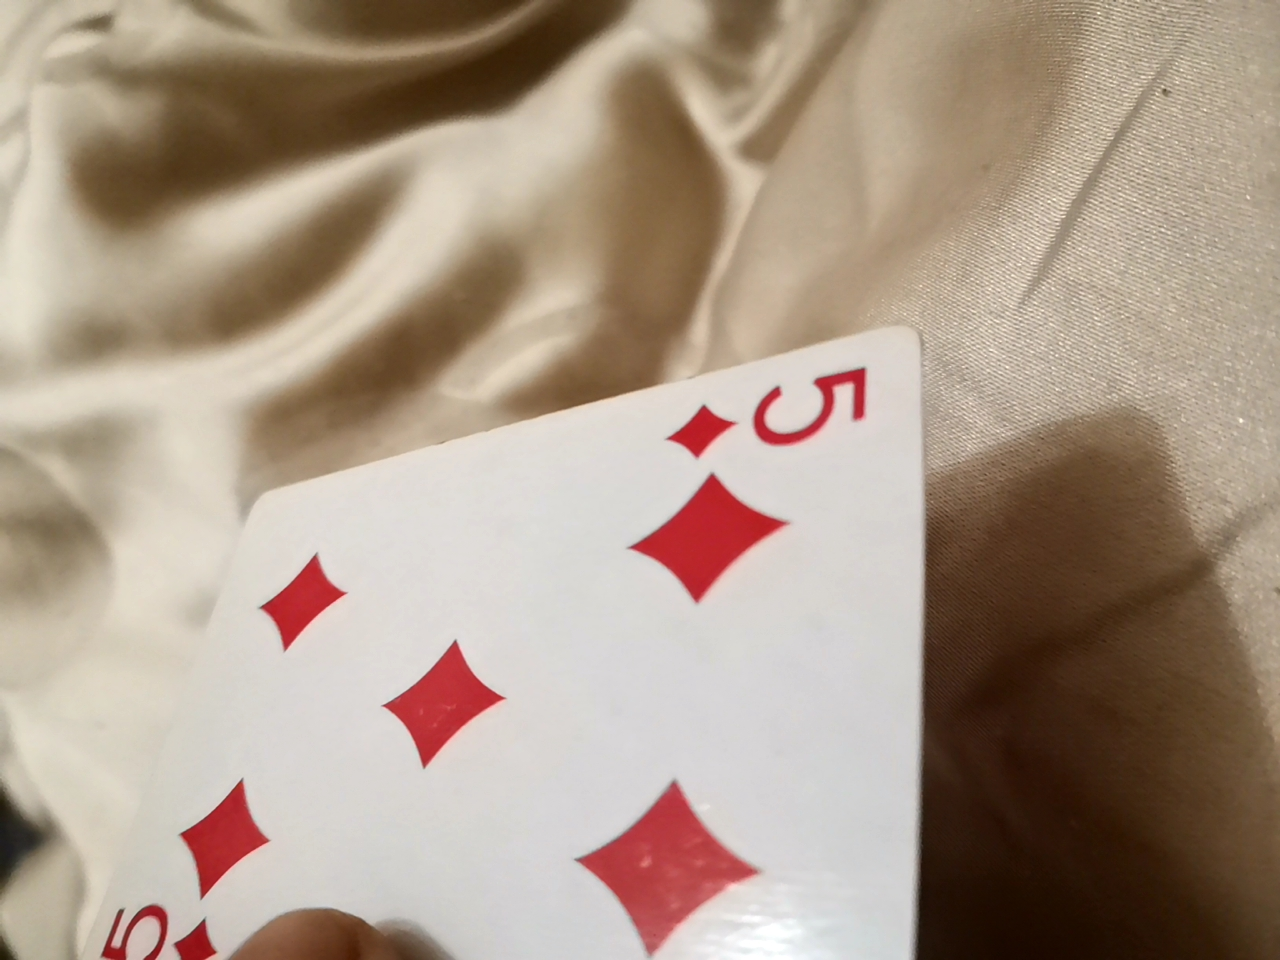fk 5: (107, 349, 917, 956)
